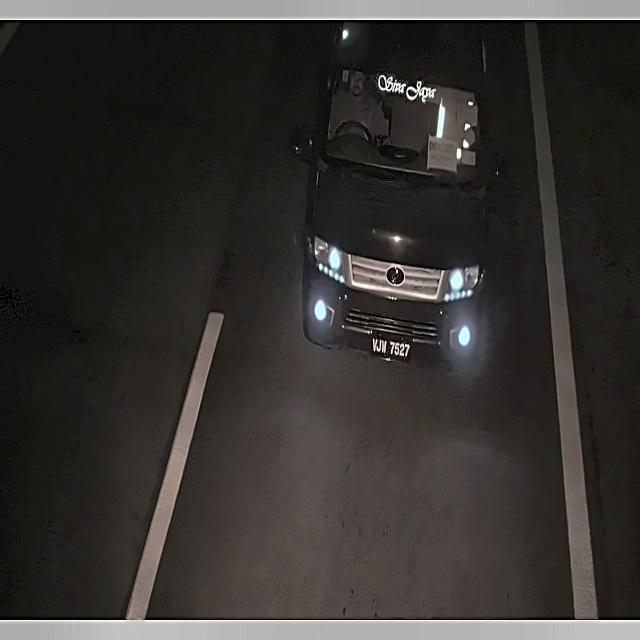car: (363, 330, 414, 366)
